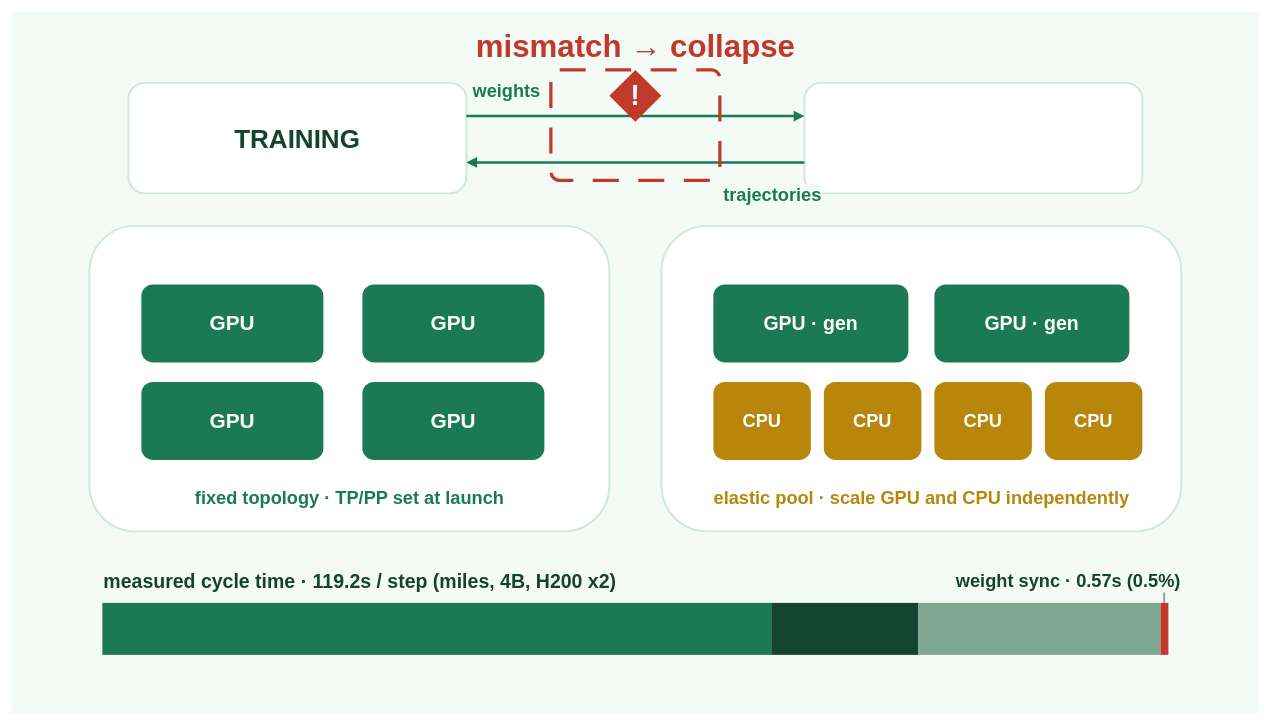
The diagram is 1270 pixels wide and 724 high, and some of its shapes have lost their labels. Here are the shapes that lost their labels. From the top down, the box of each, then its label:
(803, 82, 1143, 194): ROLLOUT
(88, 225, 610, 532): TRAINING · fixed resources
(660, 225, 1182, 532): ROLLOUT · elastic pool
(102, 603, 771, 655): rollout generation · 74.8s (63%)
(771, 603, 918, 655): actor_train · 16.4s
(918, 603, 1160, 655): other · 27.4s
